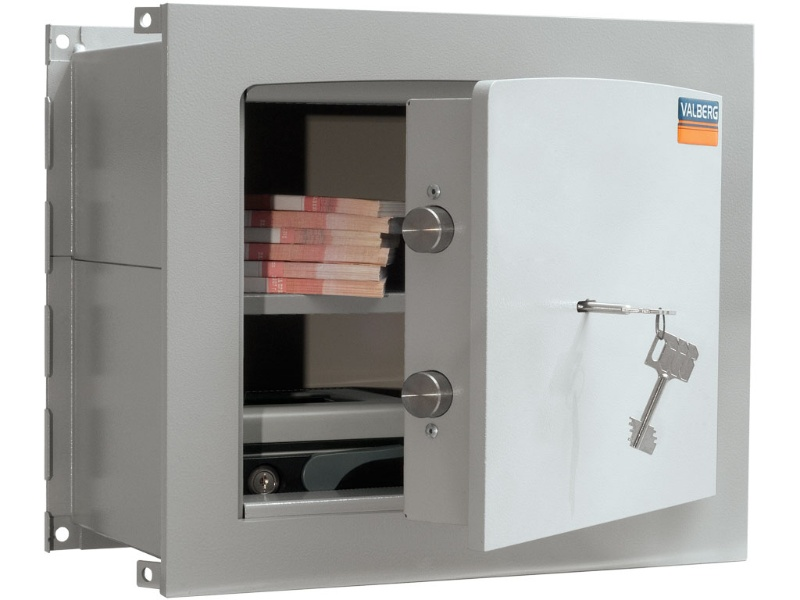cash: (246, 192, 405, 297)
